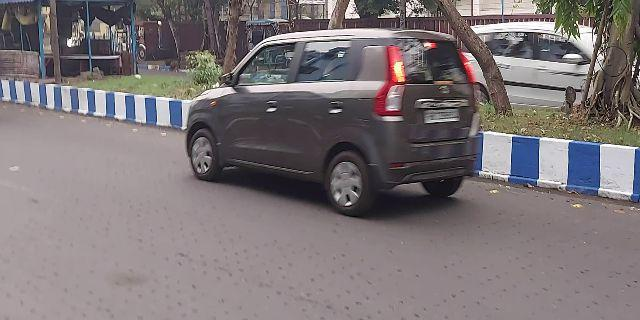Car: (185, 33, 479, 212)
